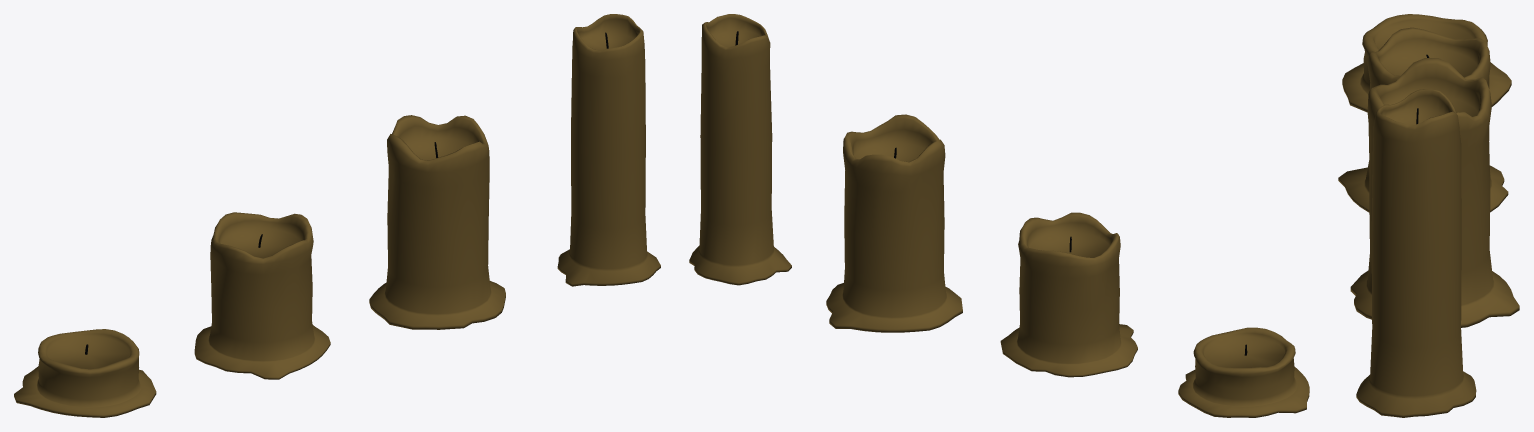
The model's file is Candles.obj.
3 renders of one model, left to right at view 1: azimuth 30°, elevation 25°; view 2: azimuth 150°, elevation 25°; view 3: azimuth 270°, elevation 25°, orthographic. The views are drawn at different scales.
Parts seen in each view (by area): view 1: Candle_2, Candle_3, Candle_1, Candle_4; view 2: Candle_2, Candle_3, Candle_1, Candle_4; view 3: Candle_3, Candle_2, Candle_1, Candle_4.
Boxes of the visible parts, x1,y1,x2,y2 form: Candle_2: [369, 115, 505, 329]; Candle_3: [557, 14, 660, 286]; Candle_1: [194, 212, 330, 379]; Candle_4: [14, 329, 156, 417]; Candle_2: [826, 114, 962, 332]; Candle_3: [689, 14, 791, 285]; Candle_1: [1000, 212, 1137, 377]; Candle_4: [1178, 327, 1309, 417]; Candle_3: [1356, 89, 1476, 417]; Candle_2: [1350, 58, 1519, 327]; Candle_1: [1338, 27, 1508, 212]; Candle_4: [1342, 14, 1511, 112].
Bounding box in the file's own units: 8.89 × 3.27 × 1.84.
